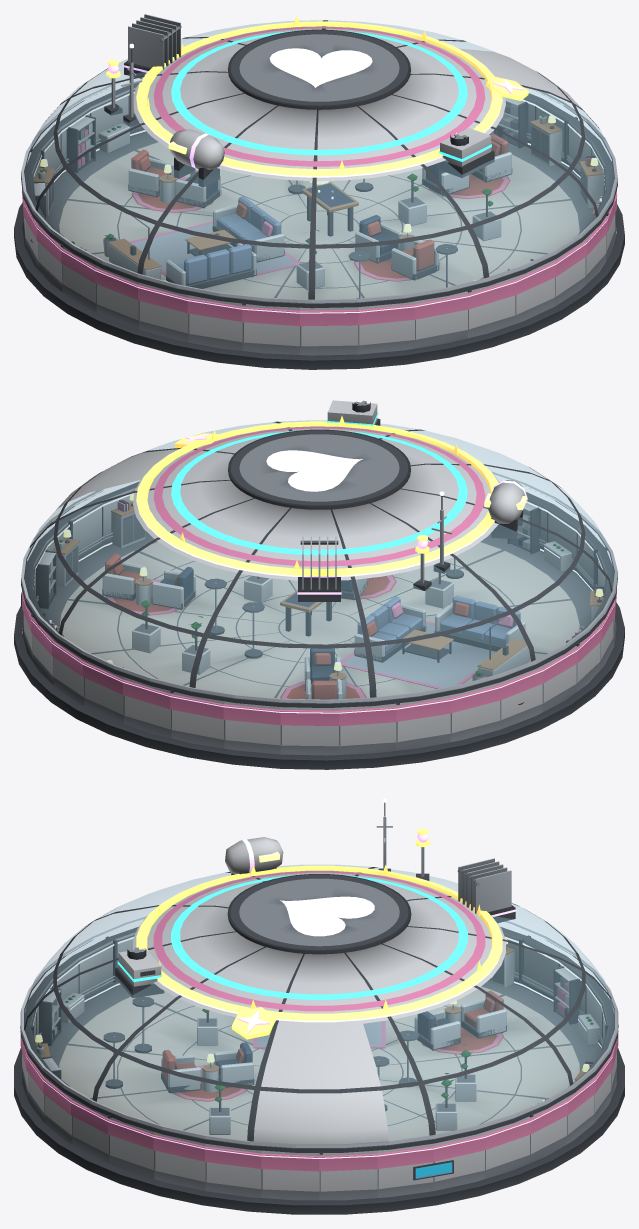
Rendered from lounge_m.glb.
The picture shows the model from 3 angles, top to bottom: view 1: azimuth 30°, elevation 25°; view 2: azimuth 150°, elevation 25°; view 3: azimuth 270°, elevation 25°; orthographic projection.
Visible parts, largest first — view 1: Roof, Base, Interior, L5, L3, L4, Wall_21, Wall_20, Wall_22, Wall_19, Wall_23, Wall_18 (+19 smaller); view 2: Roof, Base, Interior, L5, L3, L4, Wall_10, Wall_11, Wall_09, Wall_12, Wall_08, Wall_13 (+17 smaller); view 3: Roof, Base, Interior, L5, L3, L4, Wall_00, Wall_31, Wall_30, Wall_29, Wall_01, Wall_02 (+17 smaller).
Boxes of the visible parts, bbox=[...] form: Roof: bbox=[21, 20, 617, 308]; Base: bbox=[14, 131, 624, 369]; Interior: bbox=[103, 134, 512, 298]; L5: bbox=[104, 16, 529, 176]; L3: bbox=[171, 31, 494, 177]; L4: bbox=[123, 14, 499, 187]; Wall_21: bbox=[300, 307, 358, 355]; Wall_20: bbox=[242, 302, 299, 354]; Wall_22: bbox=[358, 301, 415, 354]; Wall_19: bbox=[187, 295, 242, 350]; Wall_23: bbox=[414, 291, 468, 348]; Wall_18: bbox=[138, 280, 188, 342]; Roof: bbox=[21, 420, 617, 707]; Base: bbox=[14, 531, 624, 769]; Interior: bbox=[102, 554, 529, 699]; L5: bbox=[136, 416, 498, 590]; L3: bbox=[171, 400, 467, 555]; L4: bbox=[139, 480, 527, 601]; Wall_10: bbox=[280, 707, 338, 755]; Wall_11: bbox=[339, 703, 396, 754]; Wall_09: bbox=[223, 701, 280, 754]; Wall_12: bbox=[396, 695, 451, 750]; Wall_08: bbox=[170, 690, 224, 748]; Wall_13: bbox=[450, 682, 500, 742]; Roof: bbox=[21, 865, 617, 1152]; Base: bbox=[14, 982, 624, 1214]; Interior: bbox=[103, 990, 506, 1134]; L5: bbox=[136, 828, 502, 1039]; L3: bbox=[115, 875, 467, 999]; L4: bbox=[157, 837, 516, 1022]; Wall_00: bbox=[319, 1150, 377, 1200]; Wall_31: bbox=[261, 1150, 319, 1200]; Wall_30: bbox=[205, 1144, 261, 1197]; Wall_29: bbox=[153, 1132, 205, 1190]; Wall_01: bbox=[377, 1144, 433, 1197]; Wall_02: bbox=[433, 1132, 485, 1190].
Size of the model in its own units: 14.75 by 5.62 by 14.75.
